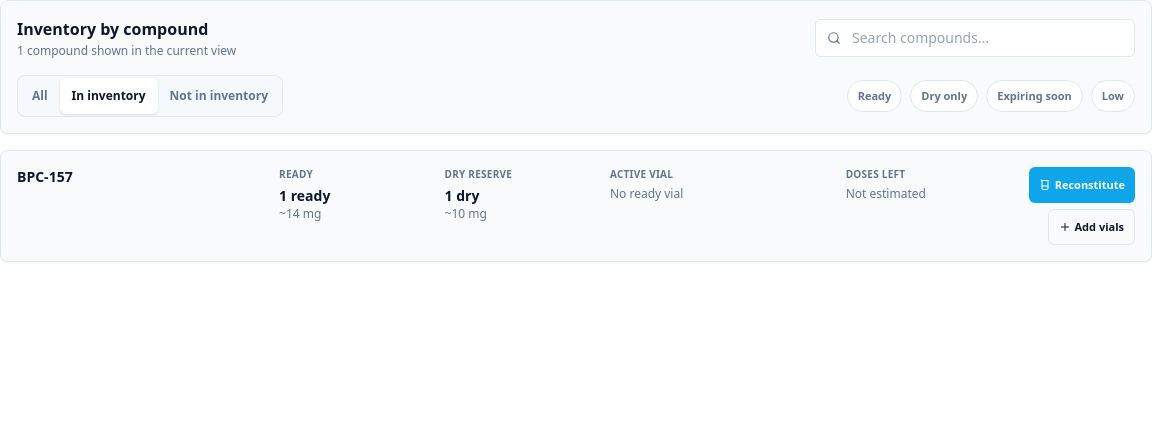
CompoundInventoryView › "All" shows both in-stock and not-in-stock compounds
What coordinates should you click on to do the following:
click the button "All"
I would click on:
 (40, 96)
Its box is [20,78,60,114].
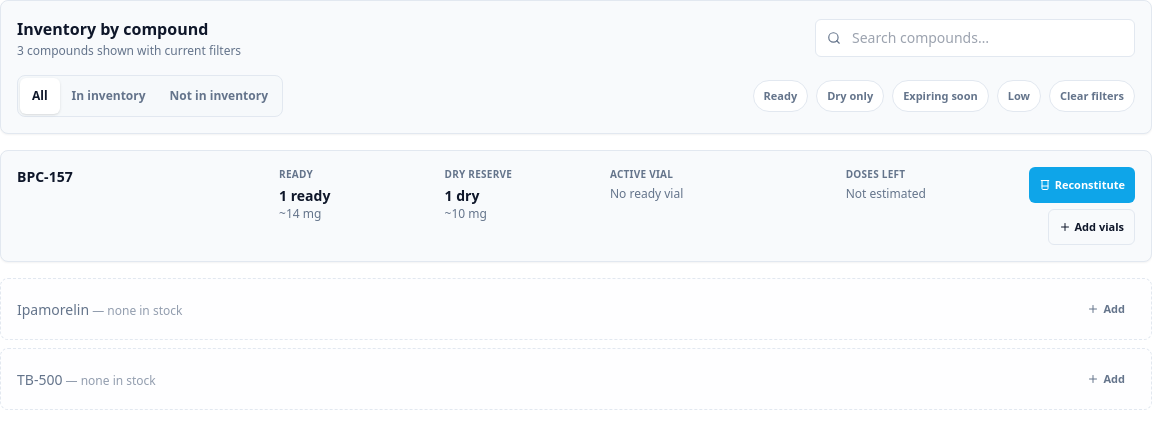
Expected: the heading "BPC-157" is shown, [17,167,73,186]
Expected: the text "TB-500" is shown, [17,370,62,389]
